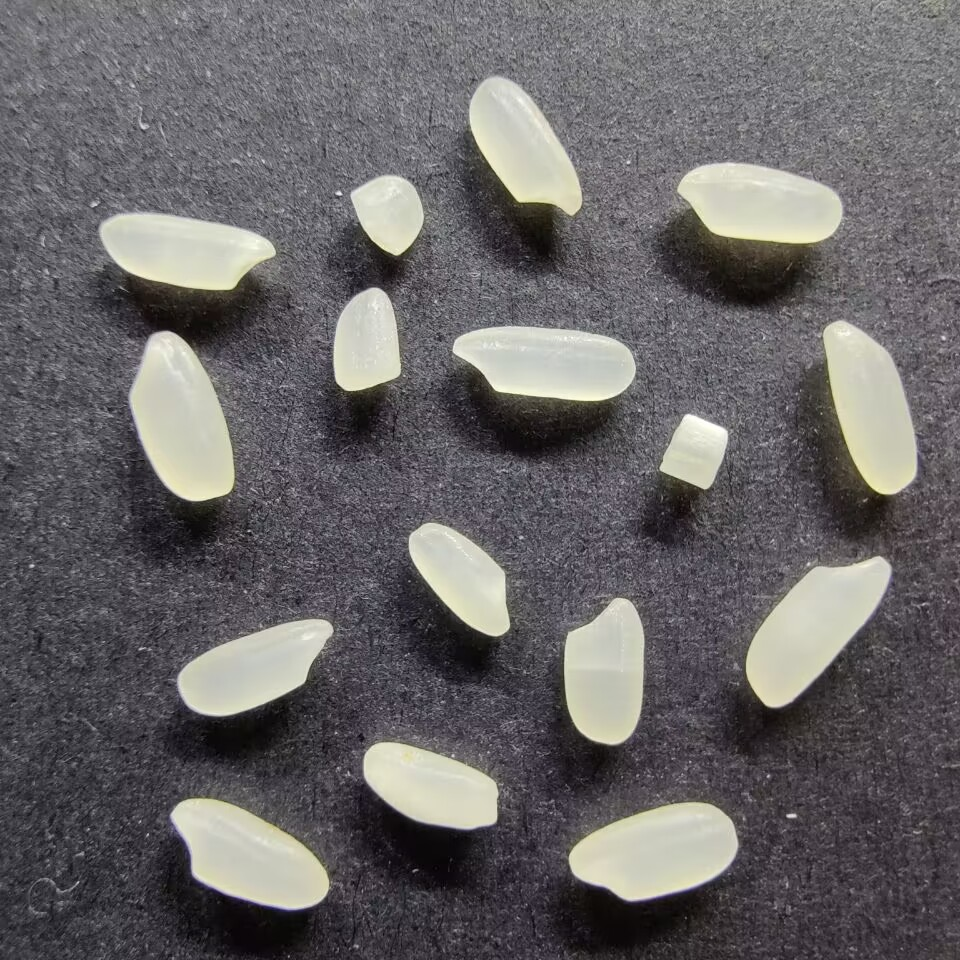broken: (331, 286, 401, 392), (348, 174, 426, 258), (655, 410, 730, 493)
rice: (742, 552, 892, 709), (127, 328, 236, 502), (167, 798, 331, 910), (567, 800, 738, 904), (819, 319, 920, 495), (465, 75, 585, 216), (175, 616, 333, 717), (98, 209, 277, 291), (674, 161, 846, 244), (451, 325, 637, 401), (561, 597, 646, 745), (362, 741, 500, 832), (405, 521, 512, 637)
